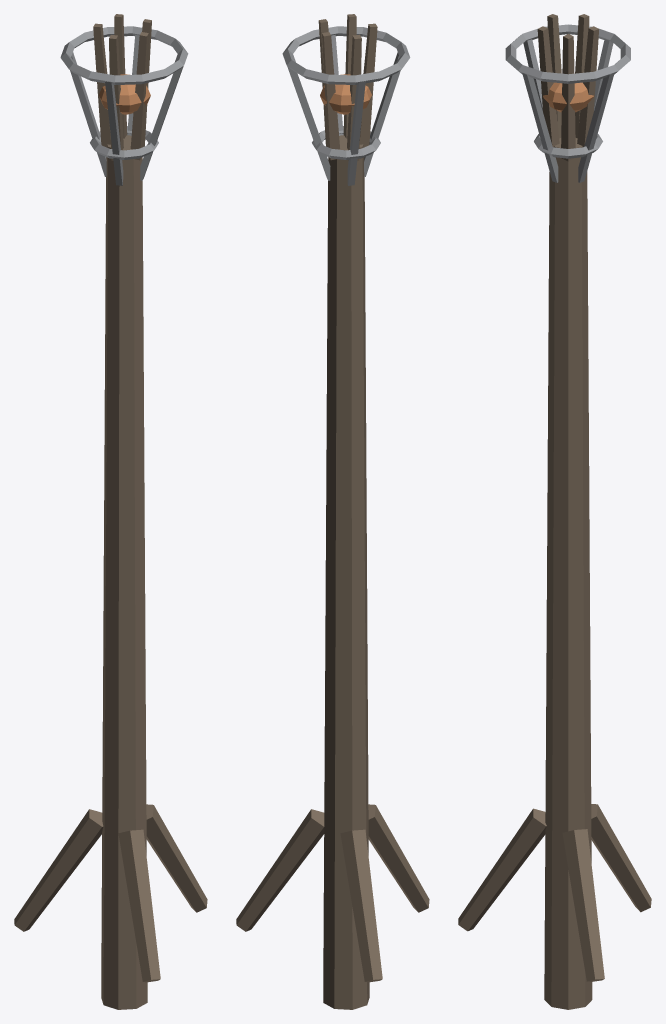
File: TorchStand.fbx
The picture shows the model from 3 angles, left to right: view 1: azimuth 30°, elevation 25°; view 2: azimuth 150°, elevation 25°; view 3: azimuth 270°, elevation 25°; orthographic projection.
Visible parts, largest first — view 1: TorchStand; view 2: TorchStand; view 3: TorchStand.
Part boxes in pixels (x1,y1,x2,y2): TorchStand: (14, 14, 207, 1009); TorchStand: (236, 14, 429, 1009); TorchStand: (458, 14, 651, 1009).
Size of the model in its own units: 36.67 by 201 by 36.14.
